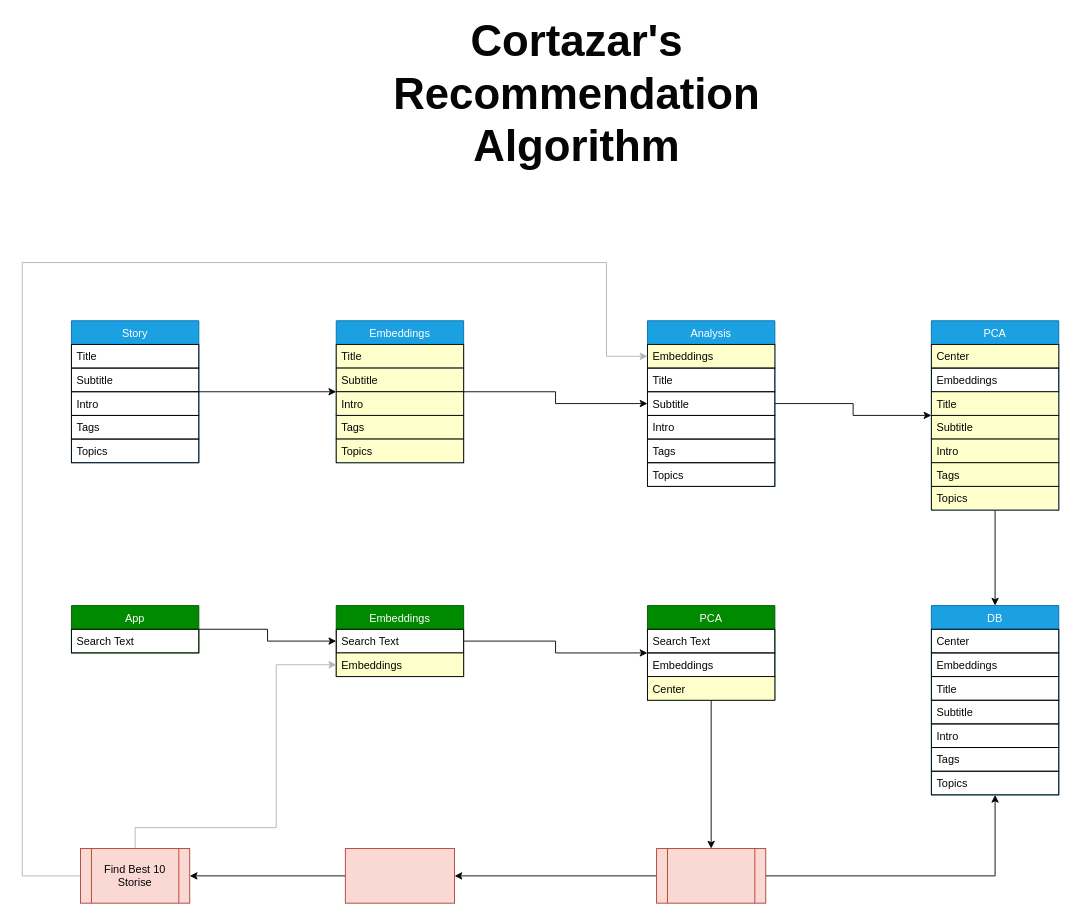
Some shapes in this 1075 by 919 pixel diagram are drawn without their labels. Here are the shapes that lost their labels. From the top down, the centre of each, then its label:
the point at 399,875: Top 100 Stories
the point at 711,875: Recommend Cloud Function
